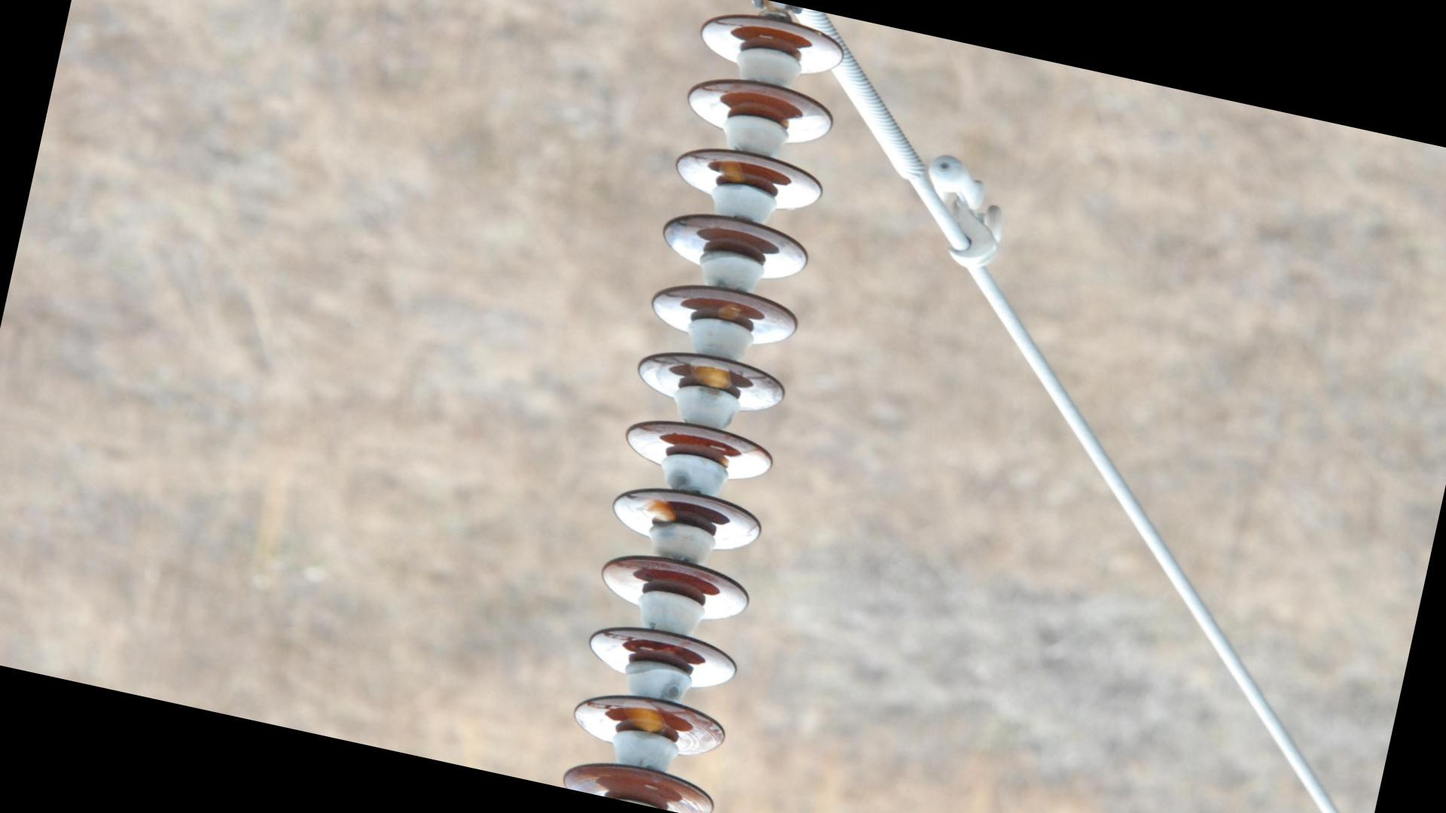damper: (905, 145, 1027, 281)
